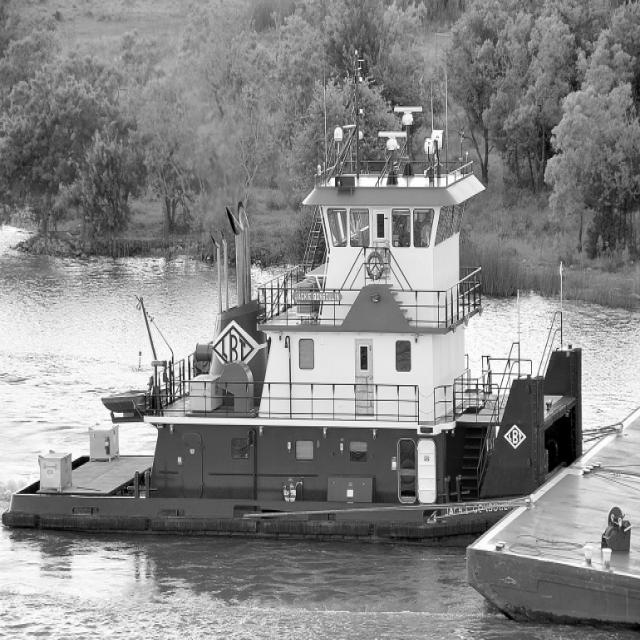tugboat: (1, 98, 589, 548)
